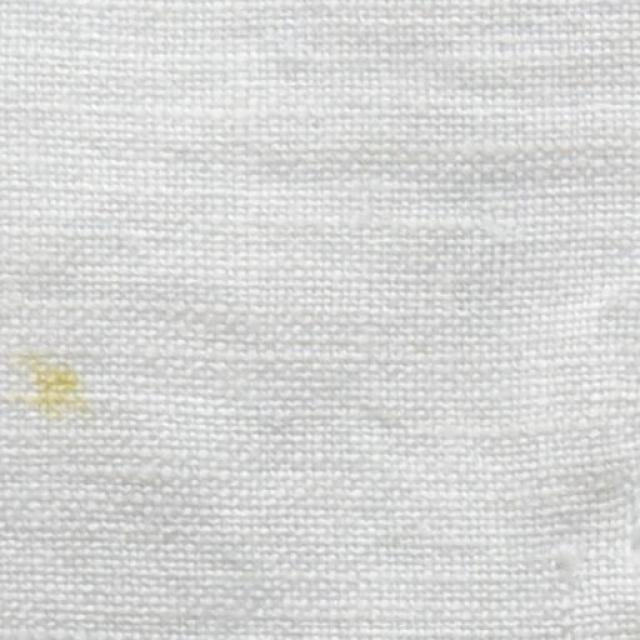Knot: (547, 539, 593, 584)
Stain: (1, 351, 92, 413)
